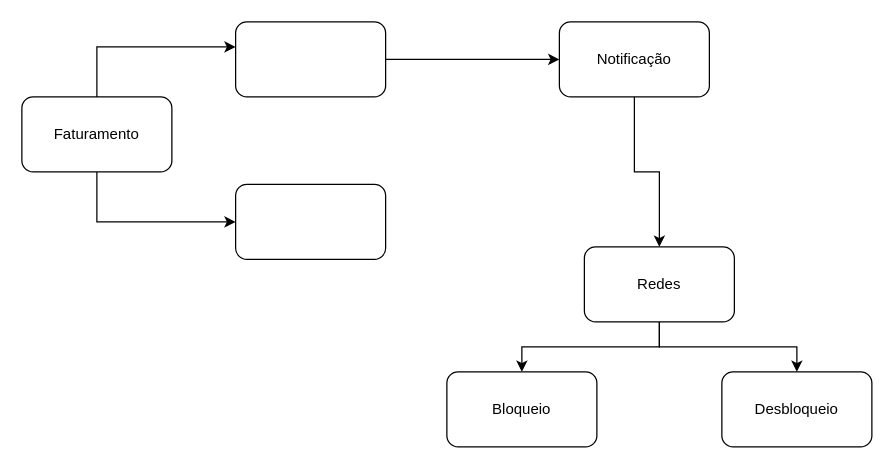
Some shapes in this 894 by 469 pixel diagram are drawn without their labels. Each missing label, with the centre of its shape:
"Cadastro" belongs at [310,59].
"Cobrança" belongs at [310,221].
